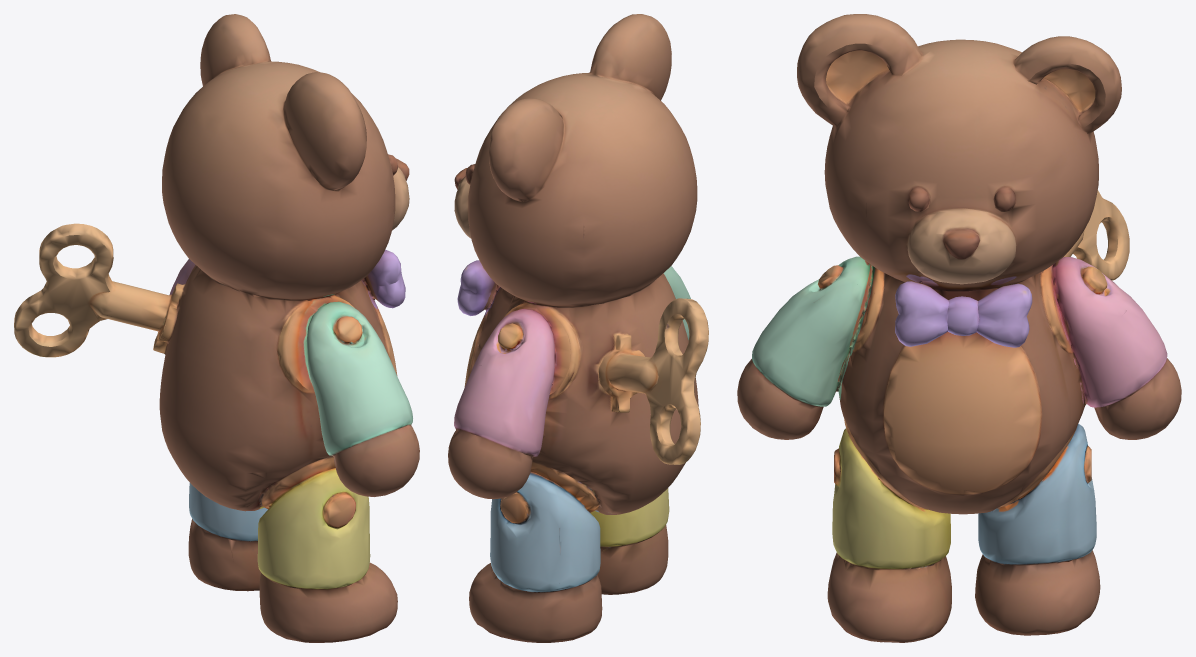
3 views of the same model, side by side, from view 1: azimuth 30°, elevation 25°; view 2: azimuth 150°, elevation 25°; view 3: azimuth 270°, elevation 25° (orthographic). The views are drawn at different scales.
Parts seen in each view (by area): view 1: repaired; view 2: repaired; view 3: repaired.
Boxes of the visible parts, left/top/right/bottom form: repaired: left=14, top=14, right=419, bottom=642; repaired: left=448, top=14, right=708, bottom=642; repaired: left=737, top=14, right=1181, bottom=642.
Bounding box in the file's own units: 0.596 × 0.9994 × 0.683.
Materials: 1 (1 with a texture image).
